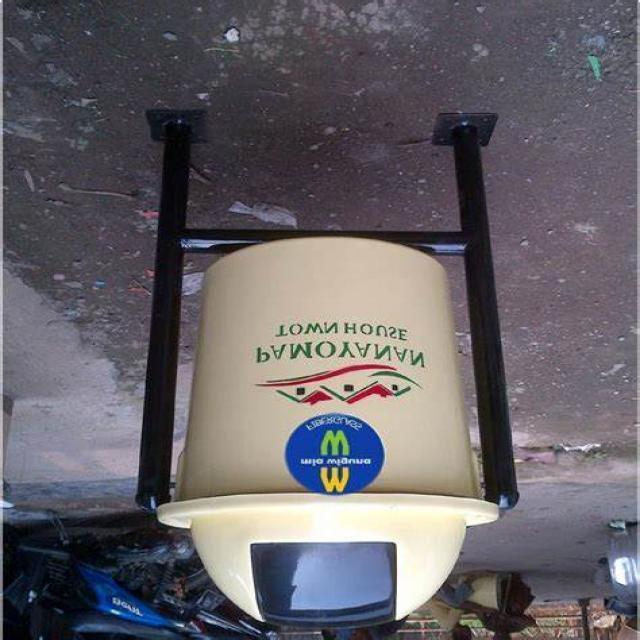garbage container: (99, 109, 613, 640)
